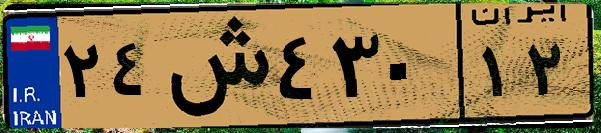0: (385, 28, 445, 110)
1: (475, 38, 525, 113)
2: (57, 26, 110, 100), (525, 38, 570, 115)
3: (330, 28, 385, 110)
4: (270, 28, 330, 110), (110, 28, 158, 98)
ش: (158, 12, 270, 120)
